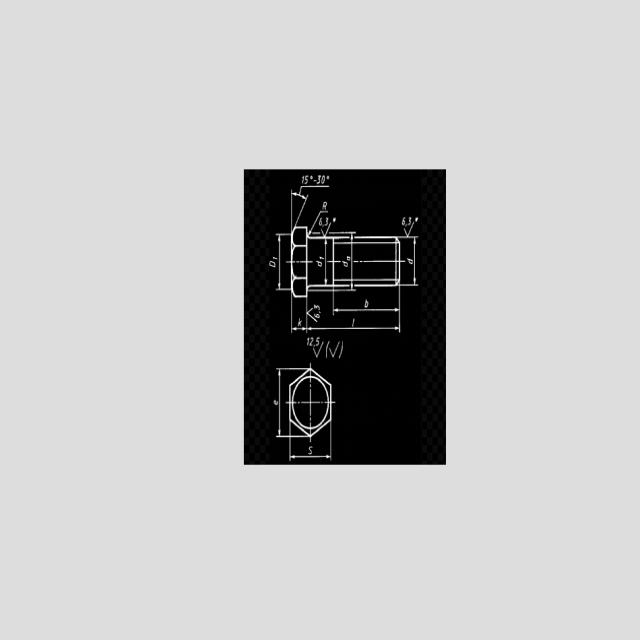marking_line: (335, 307, 399, 315), (276, 367, 282, 436), (309, 327, 400, 331), (349, 235, 355, 289), (277, 235, 282, 289), (290, 454, 330, 460), (324, 240, 328, 286), (413, 239, 417, 284), (293, 327, 307, 332)
special_symbol: (290, 188, 309, 226), (309, 210, 326, 237), (312, 344, 326, 360), (329, 343, 341, 360), (402, 224, 416, 238), (320, 224, 332, 235)
